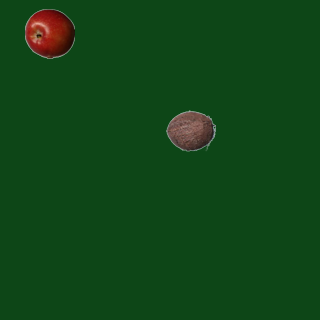Apple Braeburn: (24, 8, 74, 58)
Cocos: (165, 105, 215, 155)
